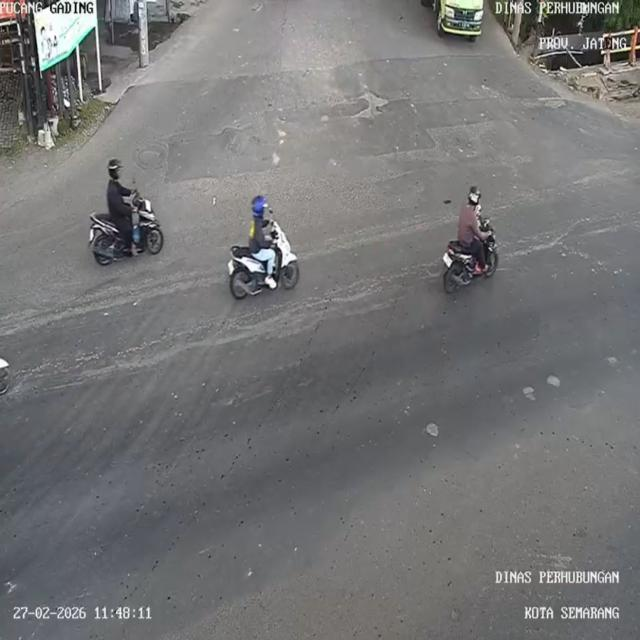motorcycle: (85, 206, 166, 271), (226, 238, 300, 300), (438, 226, 501, 288)
person: (102, 157, 140, 229), (247, 196, 280, 263), (456, 182, 481, 258), (474, 202, 484, 227)
rider_region: (84, 154, 166, 268), (223, 193, 302, 304), (437, 182, 501, 292)
